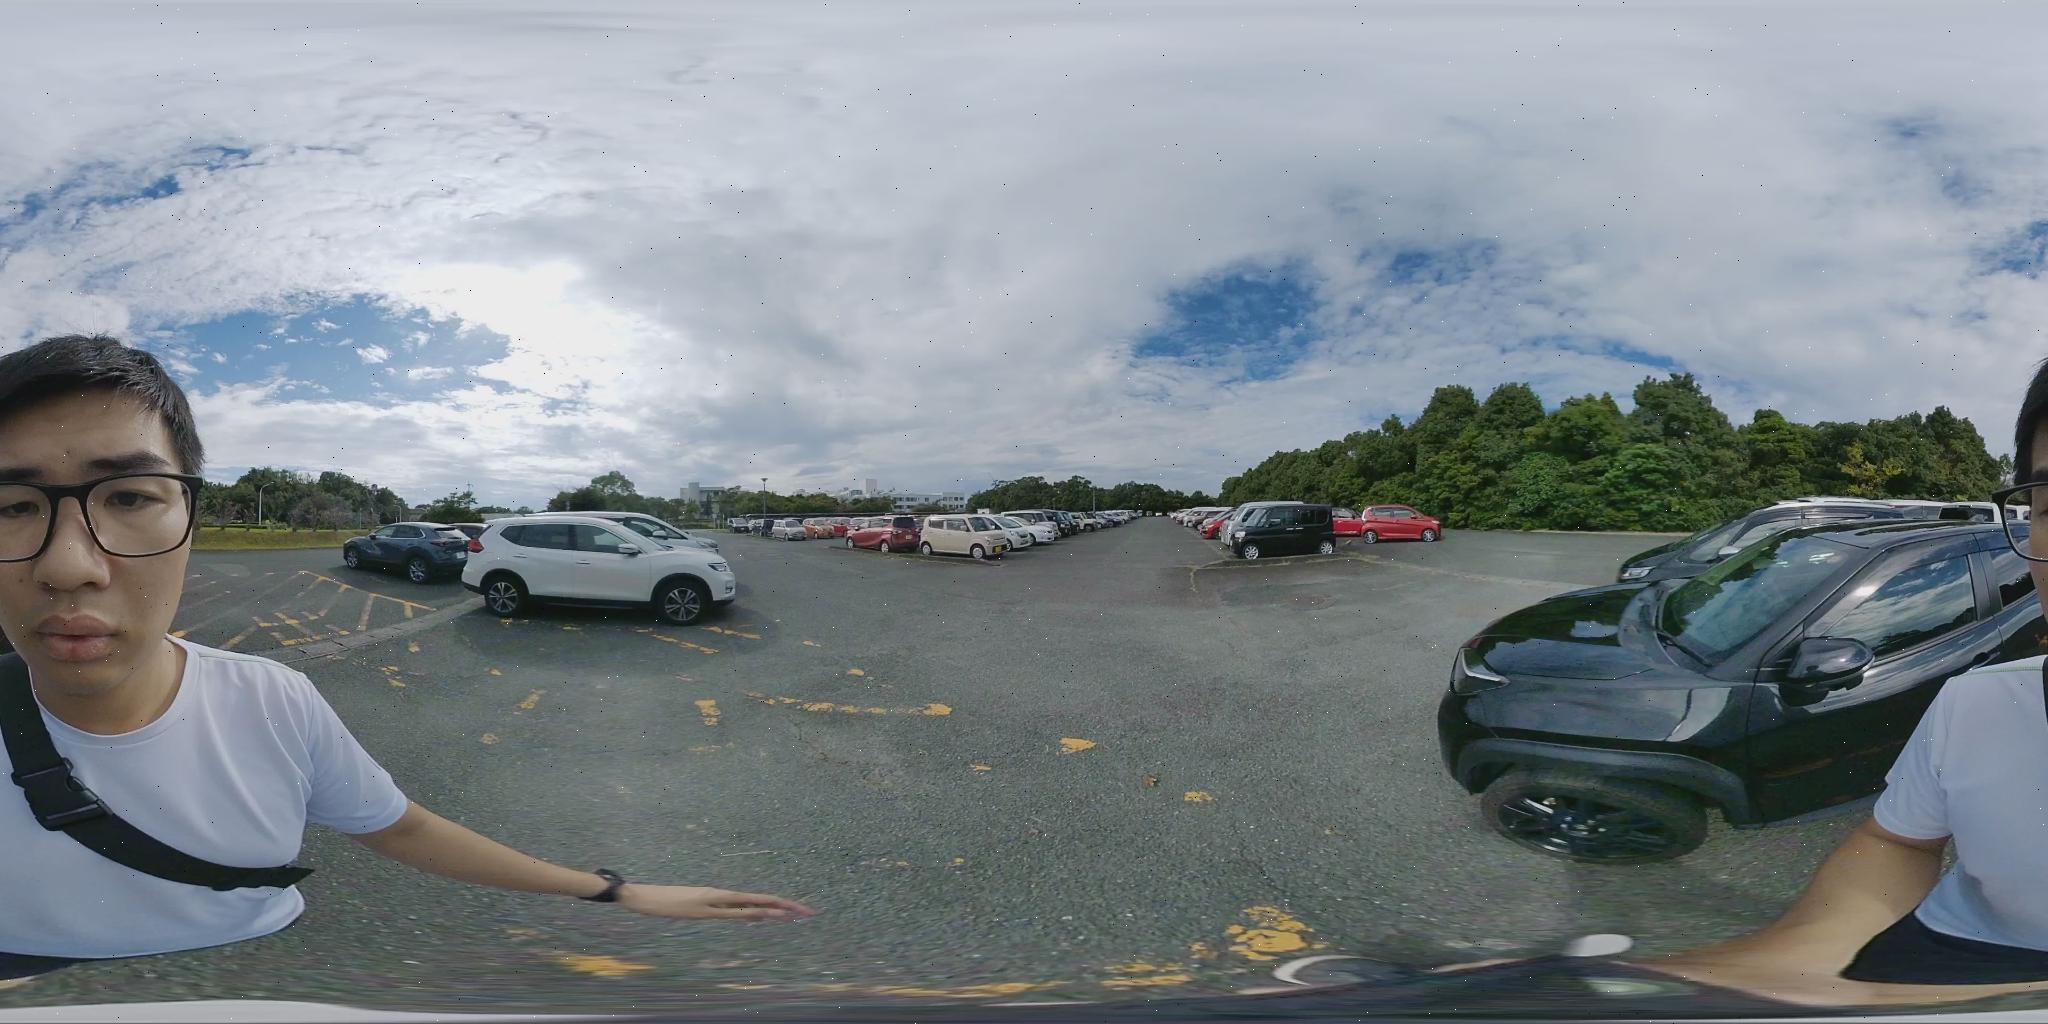car: (1434, 503, 2047, 874), (449, 512, 743, 626), (1229, 502, 1428, 552), (345, 521, 477, 580), (1216, 503, 1341, 560), (920, 515, 1050, 559), (1357, 507, 1448, 543), (849, 519, 926, 551), (995, 515, 1063, 547), (767, 516, 858, 538), (1031, 513, 1081, 541), (1186, 511, 1234, 539), (801, 519, 862, 541), (1177, 507, 1228, 532), (1040, 509, 1091, 534), (763, 521, 811, 542), (1087, 512, 1131, 533), (1068, 513, 1112, 534), (731, 519, 775, 539), (1095, 508, 1138, 525)
